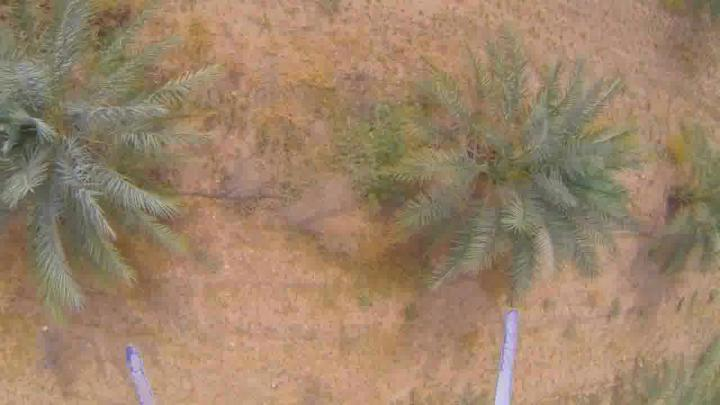Date-Palm-Crown: (0, 22, 180, 260), (437, 75, 593, 267), (680, 143, 720, 239)
